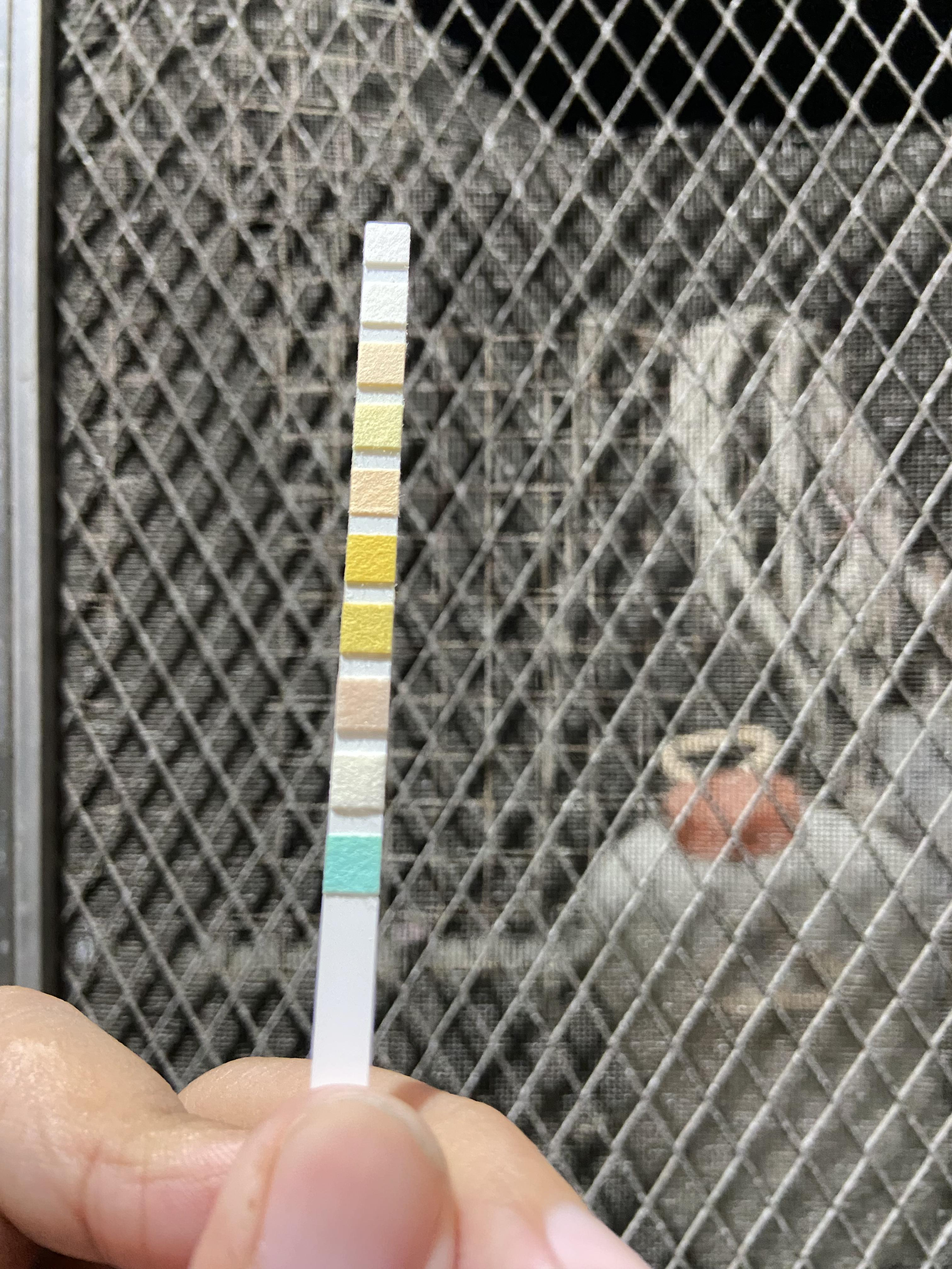Bilirubin: (332, 756, 383, 806)
Blood: (350, 538, 396, 581)
Glucose: (328, 837, 379, 894)
Ketone: (339, 680, 390, 728)
Leukocytes: (368, 228, 410, 264)
Nitrite: (365, 282, 407, 321)
Protein: (357, 407, 401, 446)
SpGravity: (344, 607, 390, 651)
Urobilinogen: (361, 344, 405, 383)
pH: (352, 473, 396, 513)
strip: (312, 225, 411, 1076)
